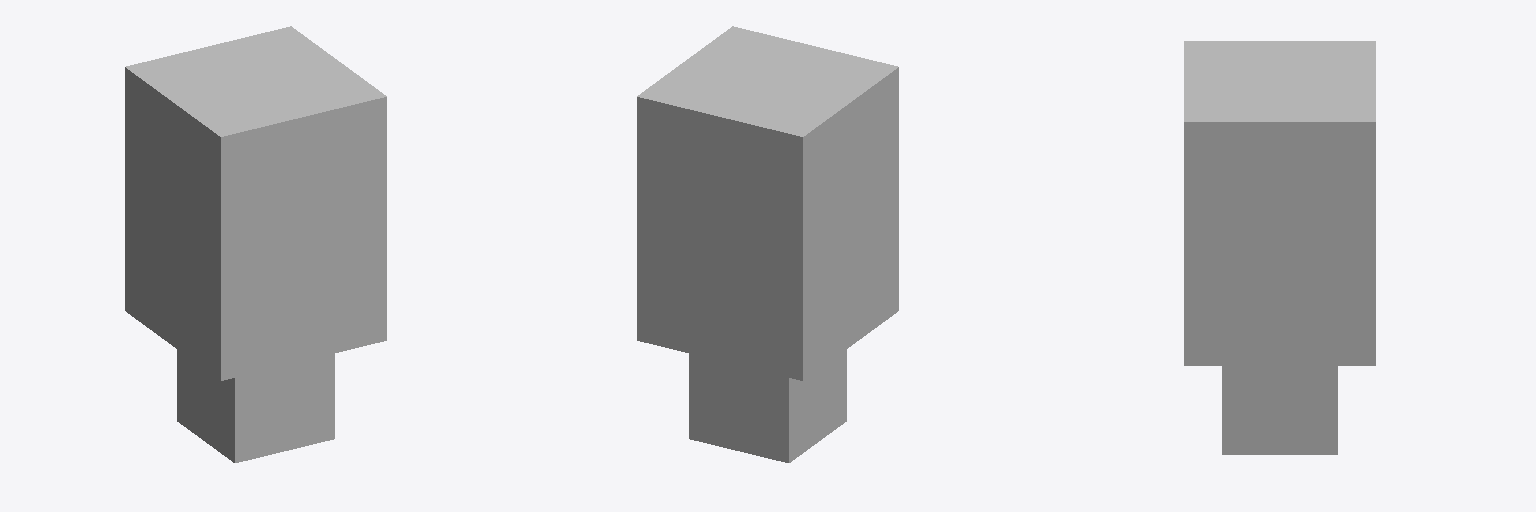
File: med tree.obj
3 renders of one model, left to right at view 1: azimuth 30°, elevation 25°; view 2: azimuth 150°, elevation 25°; view 3: azimuth 270°, elevation 25°, orthographic.
Visible parts, largest first — view 1: med tree; view 2: med tree; view 3: med tree.
Boxes of the visible parts, x1=… form: med tree: x1=125, y1=26, x2=386, y2=462; med tree: x1=637, y1=26, x2=898, y2=462; med tree: x1=1184, y1=41, x2=1375, y2=454.
Bounding box in the file's own units: 5 × 10 × 5.